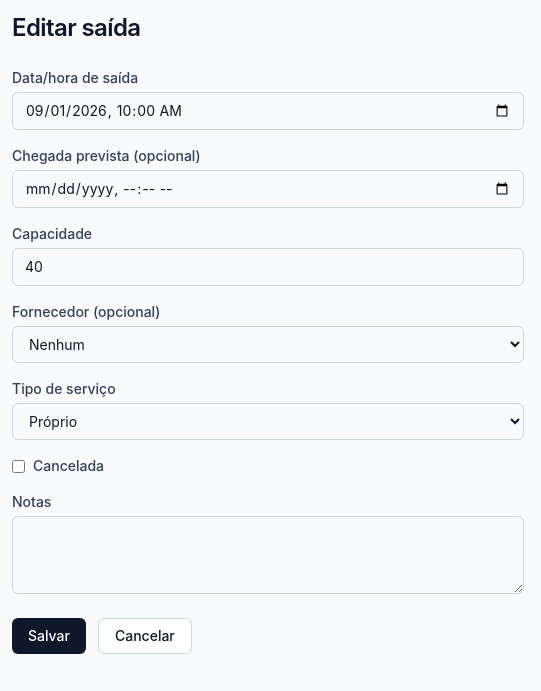
Test case: DepartureEditPage › rejects a negative capacity client-side and disables submit
This screenshot has width=541, height=691.
Replace the text in the number field labelled "Capacidade" with "-1" at x=268, y=267, box [12,248,524,286]
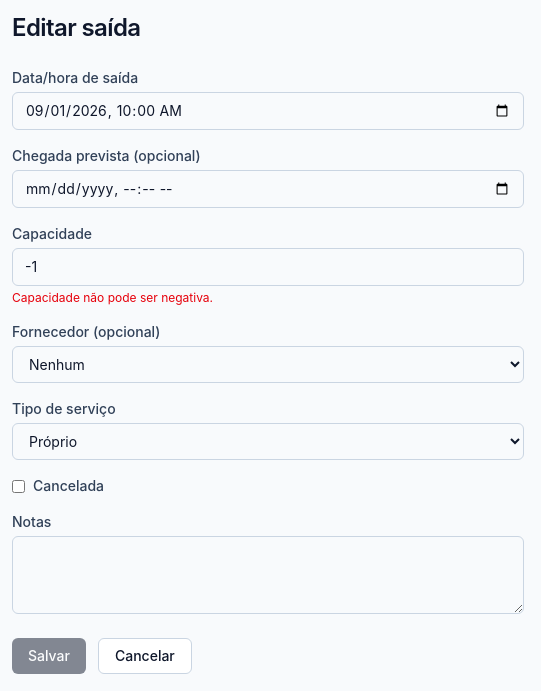
Now the text "Capacidade não pode ser negativa." is shown, box [12,290,213,305]
Now the button "Salvar" is disabled, box [12,638,86,674]
